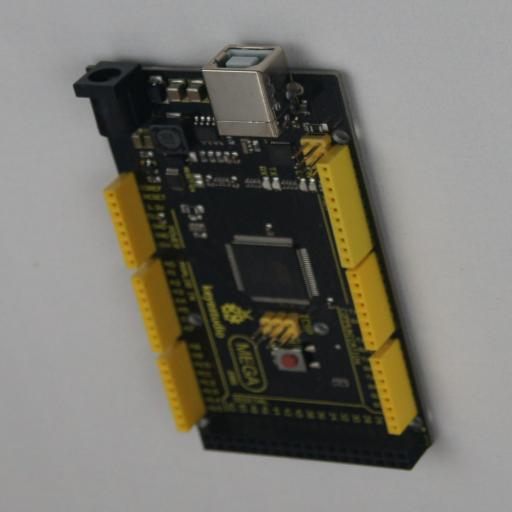Arduino Mega 2560 -Black and Yellow-: (73, 44, 438, 470)
